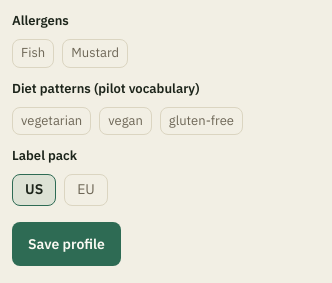
Test: ProfileEditor (D-26 H1) › saves the profile with the canonical PUT body
This screenshot has width=332, height=283.
Click the button "Fish" at [33, 53], box left=12, top=39, right=54, bottom=68
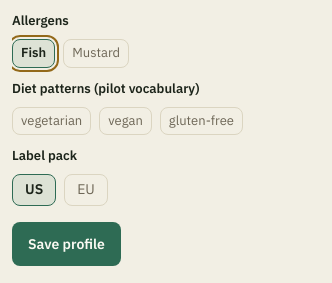
Click the button "vegetarian" at [52, 121], box left=12, top=106, right=91, bottom=135
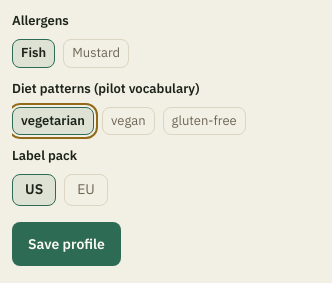
Click the radio button labelled "EU" at [86, 190], box left=64, top=174, right=108, bottom=206
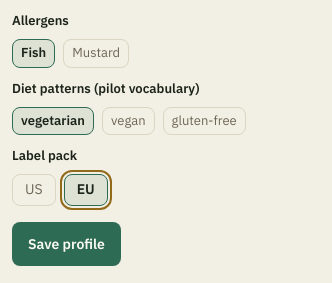
Click the button "Save profile" at [66, 244], box left=12, top=222, right=121, bottom=266
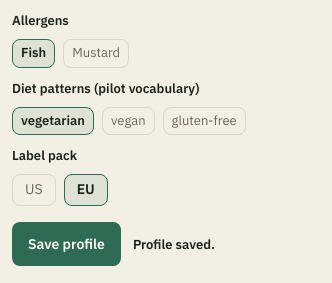
Expected: the text "Profile saved." is shown, left=133, top=236, right=215, bottom=253
